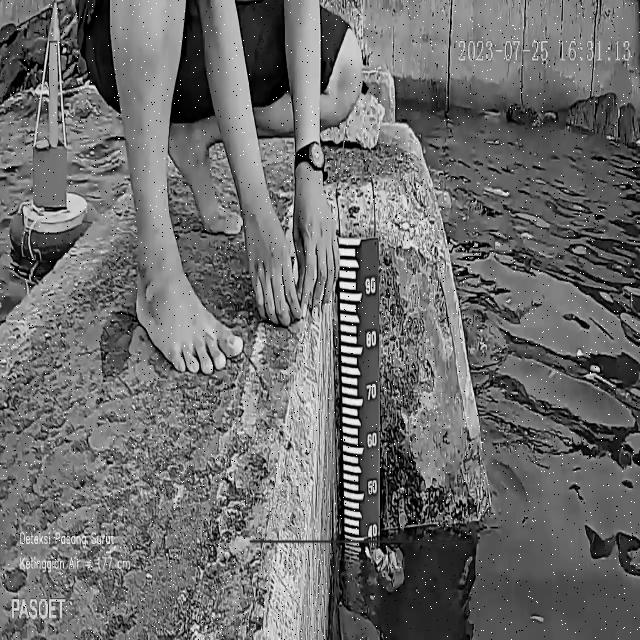50: (368, 478, 378, 496)
60: (367, 431, 378, 449)
70: (365, 382, 376, 402)
80: (366, 329, 378, 349)
90: (365, 278, 377, 295)
staff: (338, 234, 380, 539)
